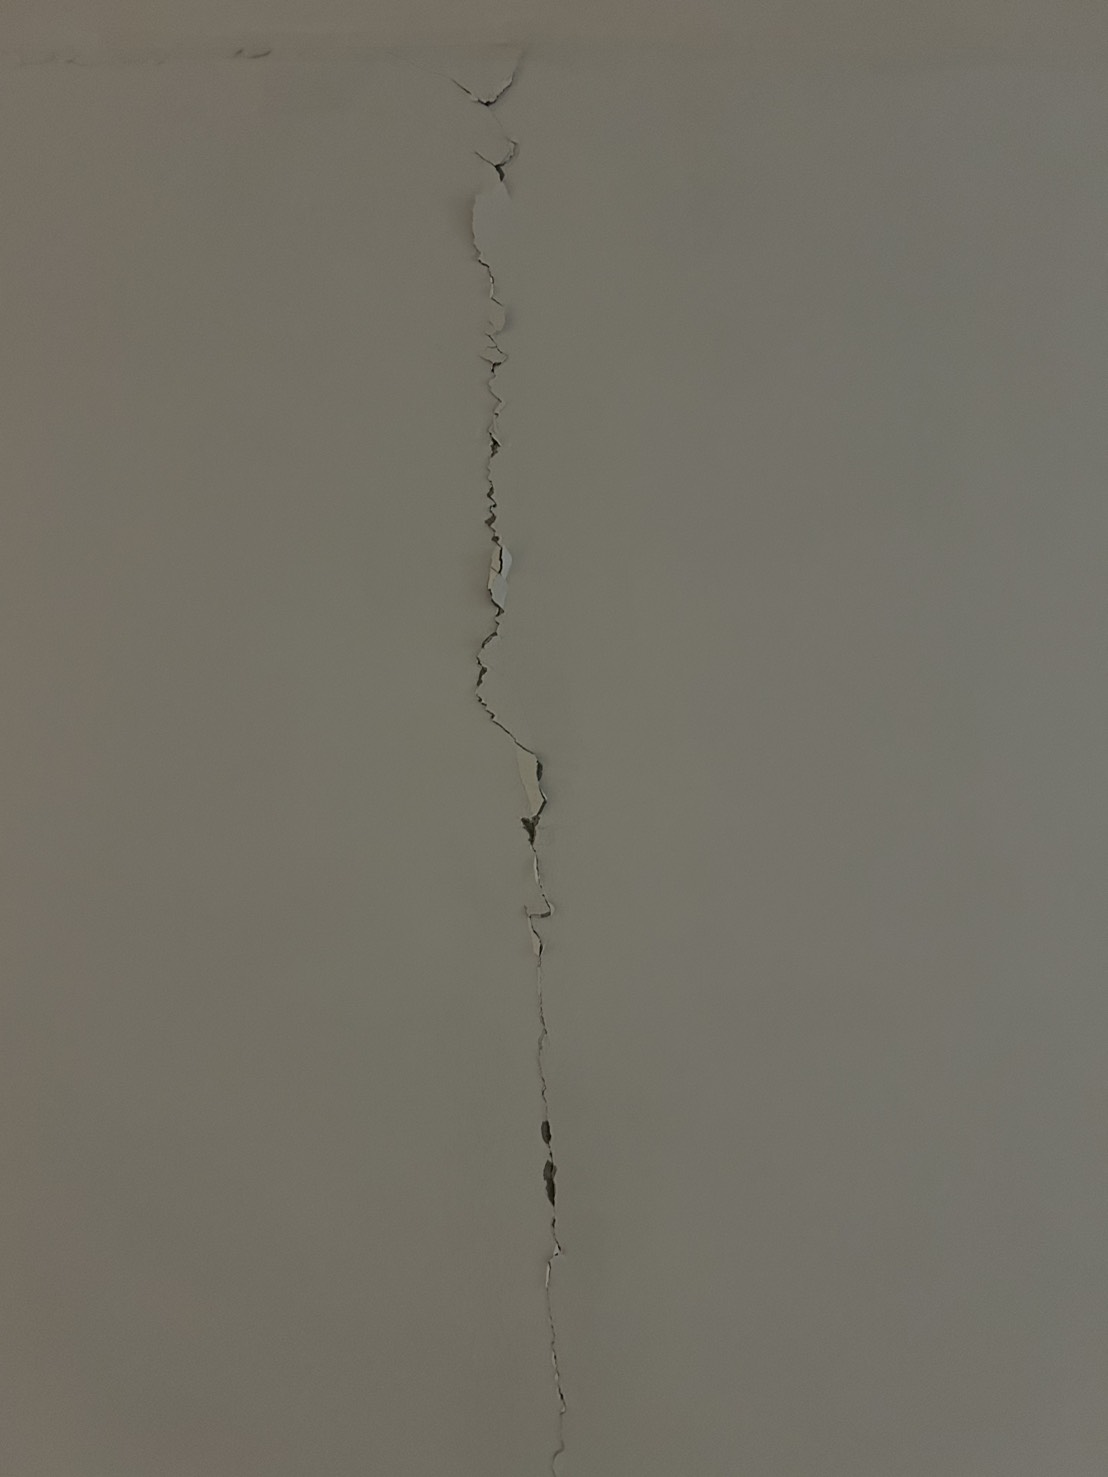Low: (395, 1, 616, 1469)
